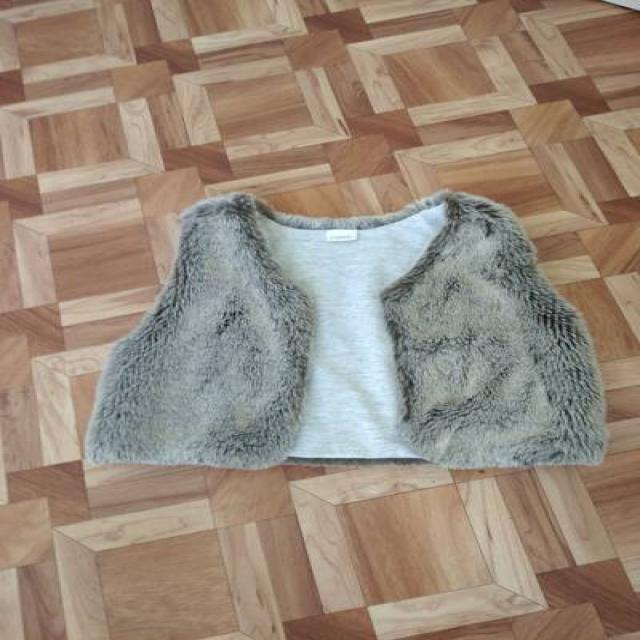Clothes -Biodegradable-: (79, 187, 610, 468)
